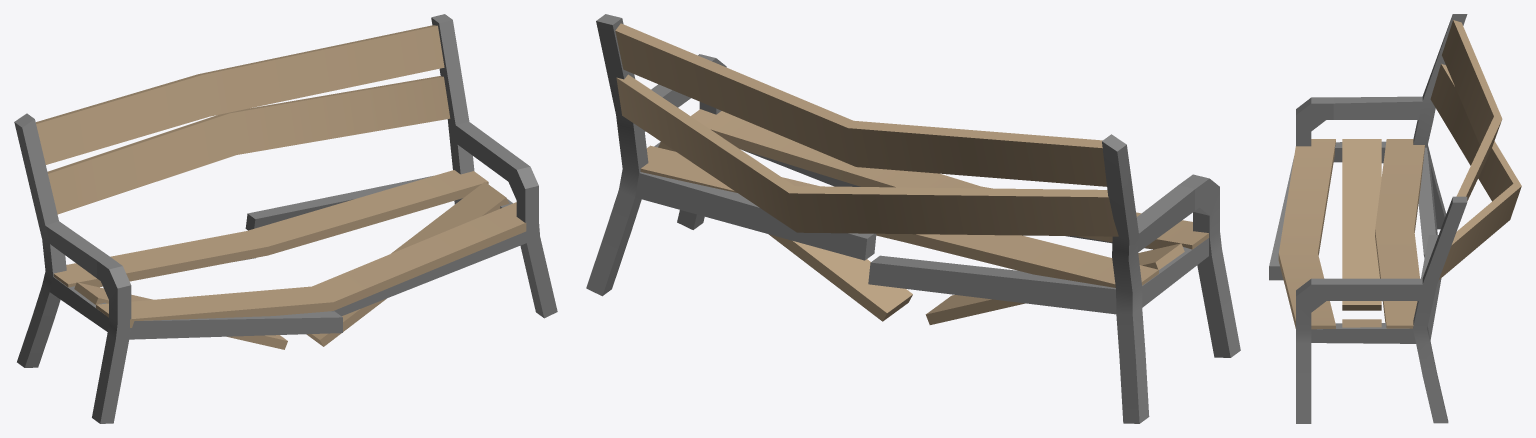
The model's file is Bench.fbx.
The picture shows the model from 3 angles, left to right: view 1: azimuth 30°, elevation 25°; view 2: azimuth 150°, elevation 25°; view 3: azimuth 270°, elevation 25°; orthographic projection. The views are drawn at different scales.
Visible parts, largest first — view 1: pCube24; view 2: pCube24; view 3: pCube24.
Boxes of the visible parts, x1,y1,x2,y2 form: pCube24: [14, 14, 557, 423]; pCube24: [586, 14, 1240, 423]; pCube24: [1269, 14, 1521, 423].
Size of the model in its own units: 0.3321 by 0.1662 by 0.1744.
